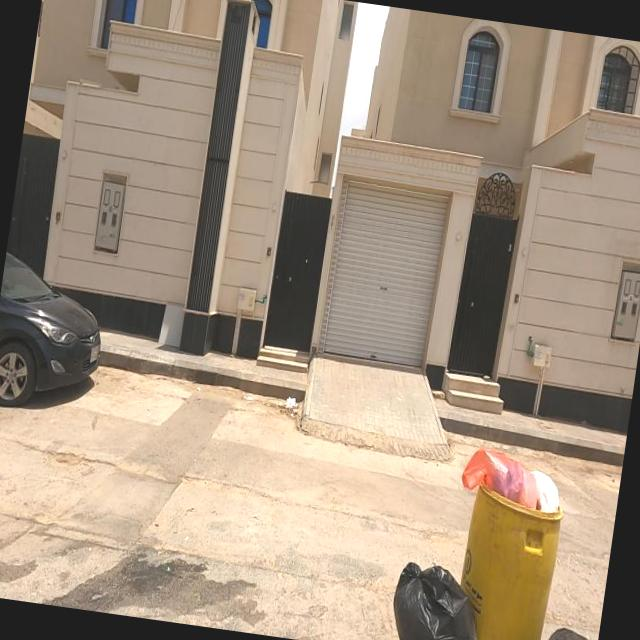debris: (376, 372, 632, 630), (335, 502, 528, 640), (245, 350, 337, 468), (516, 563, 607, 640)
